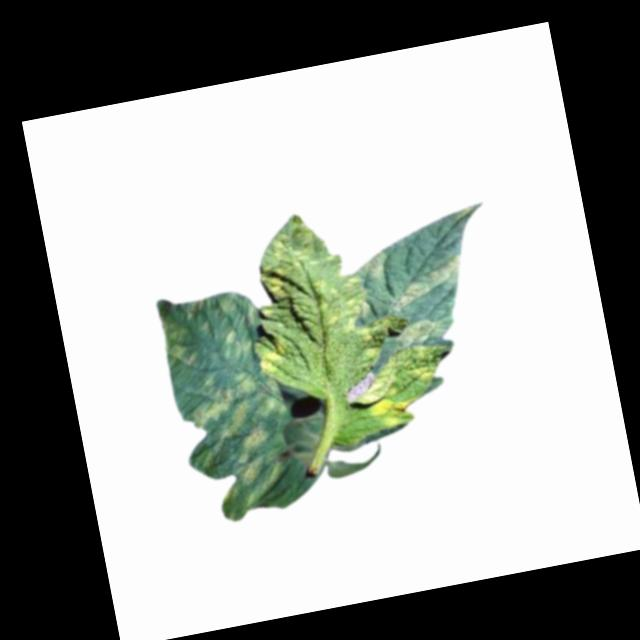Leaf_Mold: (190, 367, 301, 525), (245, 206, 368, 346), (180, 286, 264, 366), (382, 254, 469, 315), (364, 383, 425, 433), (388, 312, 452, 356), (150, 309, 196, 370), (254, 338, 291, 374)
